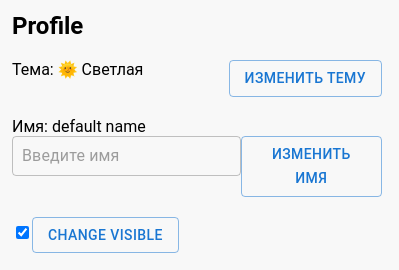
Test: App › change name
Step 1. Type "new name" into the field → coordinates (126, 156), box [12,136,241,176]
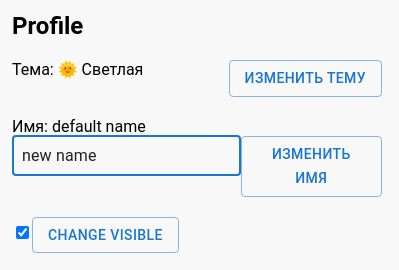
Step 2. Click the button "Изменить имя" → coordinates (311, 166), box [241,136,382,196]
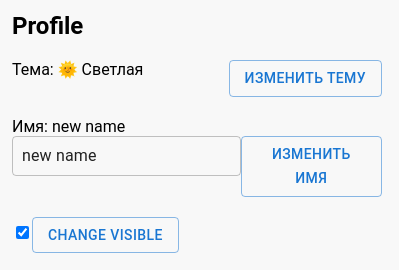
Now the text "Имя: new name" is shown, box [12,116,125,136]
